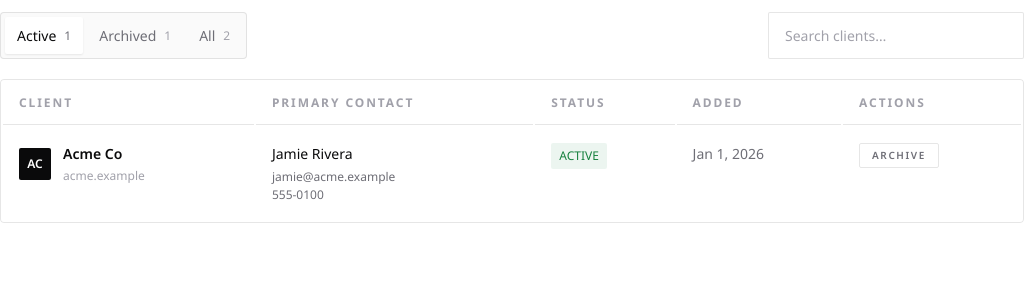
Scenario: ClientsTable › shows both on the All tab
The image size is (1036, 306).
What coordinates should you click on to do the following:
click the tab "All 2"
I would click on:
 (215, 36)
Its box is [187, 17, 242, 54].
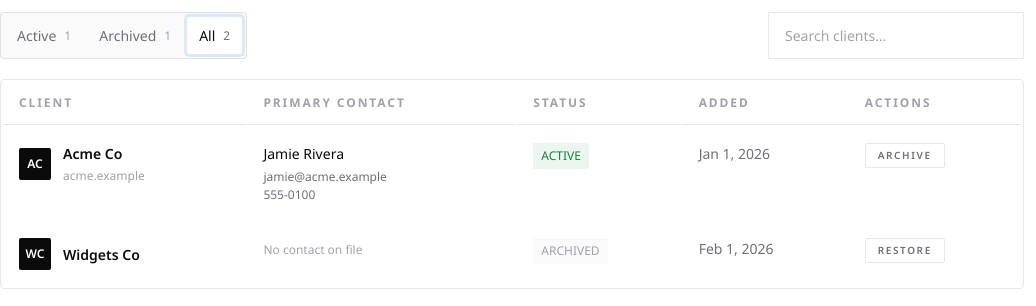
Expected: the text "Acme Co" is shown, [63, 144, 122, 163]
Now the text "Widgets Co" is shown, box [63, 244, 140, 264]
